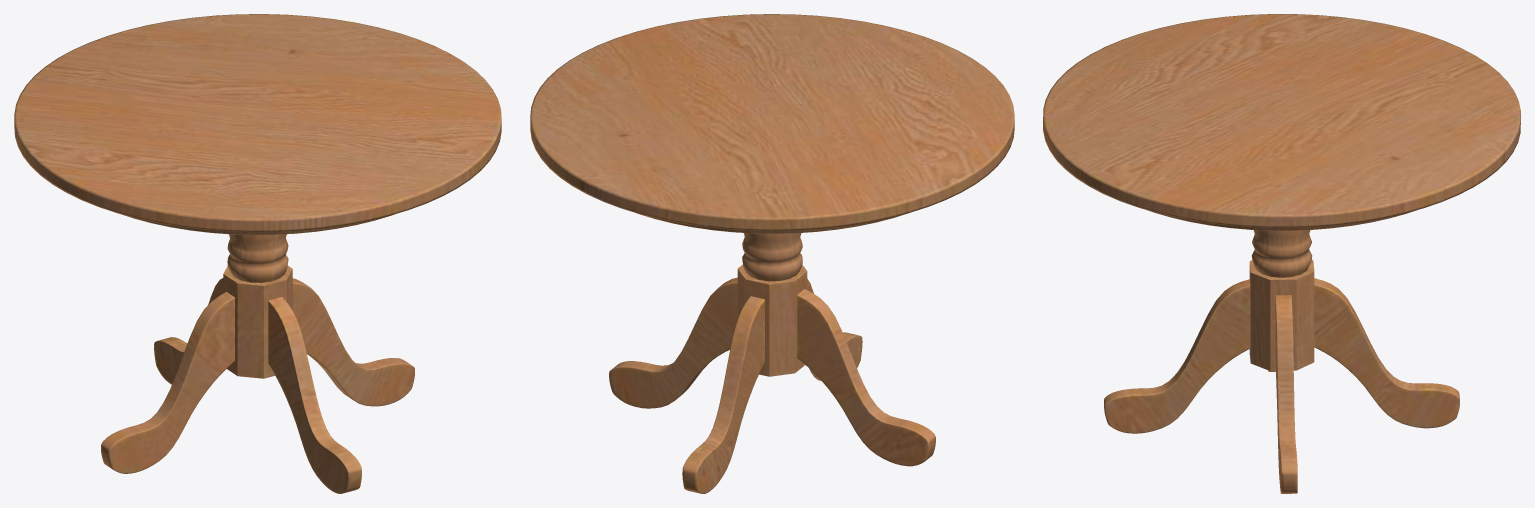
The model's file is Table24.glb.
3 renders of one model, left to right at view 1: azimuth 30°, elevation 25°; view 2: azimuth 150°, elevation 25°; view 3: azimuth 270°, elevation 25°, orthographic.
Parts seen in each view (by area): view 1: Table24_model; view 2: Table24_model; view 3: Table24_model.
Boxes of the visible parts, box(x1,y1,x2,y2) form: Table24_model: box(14, 14, 501, 493); Table24_model: box(530, 14, 1014, 493); Table24_model: box(1043, 14, 1520, 493).
Bounding box in the file's own units: 2.2 × 1.59 × 2.2.
1 material, 1 textured.
